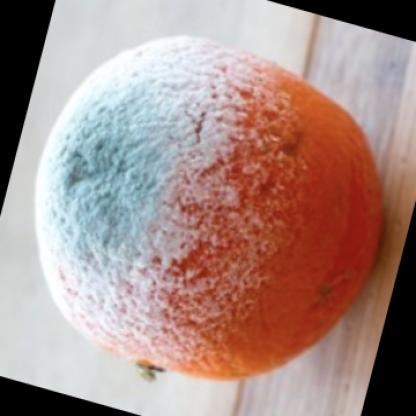rotten: (37, 37, 388, 376)
